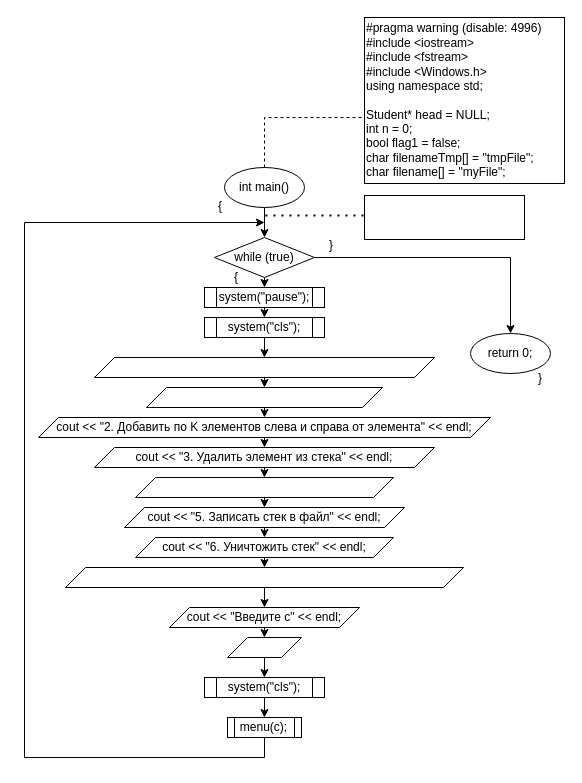
Some shapes in this 582 by 783 pixel diagram are drawn without their labels. Here are the shapes that lost their labels. From the top down, the centre of each, then its label:
(x=444, y=217): SetConsoleCP(1251); SetConsoleOutputCP(1251); int c;
(x=264, y=367): cout << "Здравствуйте, что вы хотите сделать?" << endl;
(x=264, y=397): cout << "1. Создать стек" << endl;
(x=264, y=487): cout << "4. Напечатать стек" << endl;
(x=264, y=577): cout << "7. Восстановить стек из файла" << endl; cout << endl;
(x=264, y=647): cin >> c;
